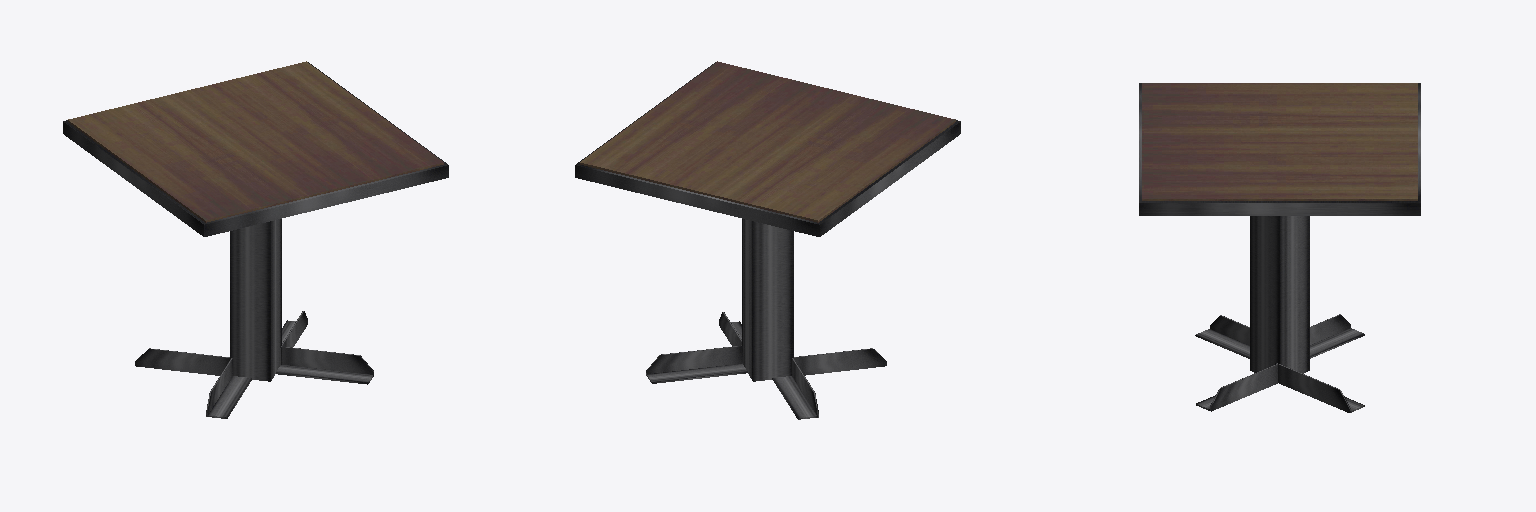
3 views of the same model, side by side, from view 1: azimuth 30°, elevation 25°; view 2: azimuth 150°, elevation 25°; view 3: azimuth 270°, elevation 25° (orthographic).
Visible parts, largest first — view 1: Box002, Box003, Box001, Box006, Box005, Box007, Box008; view 2: Box002, Box003, Box001, Box008, Box007, Box005; view 3: Box002, Box003, Box001, Box008, Box006, Box005, Box007.
Boxes of the visible parts, box(x1,y1,x2,y2) form: Box002: box(68, 61, 443, 222); Box003: box(230, 219, 281, 381); Box001: box(63, 62, 448, 236); Box006: box(276, 346, 373, 384); Box005: box(135, 348, 229, 375); Box007: box(206, 358, 251, 418); Box008: box(280, 311, 307, 364); Box002: box(580, 61, 955, 222); Box003: box(742, 219, 793, 381); Box001: box(575, 62, 960, 236); Box008: box(646, 345, 747, 383); Box007: box(794, 348, 886, 375); Box005: box(772, 358, 818, 419); Box002: box(1142, 83, 1417, 200); Box003: box(1250, 216, 1309, 373); Box001: box(1139, 83, 1420, 215); Box008: box(1275, 363, 1364, 412); Box006: box(1196, 364, 1277, 411); Box005: box(1310, 314, 1364, 358); Box007: box(1195, 315, 1249, 358).
Size of the model in its own units: 15.54 by 13.94 by 15.54.
Materials: 2 (2 with a texture image).